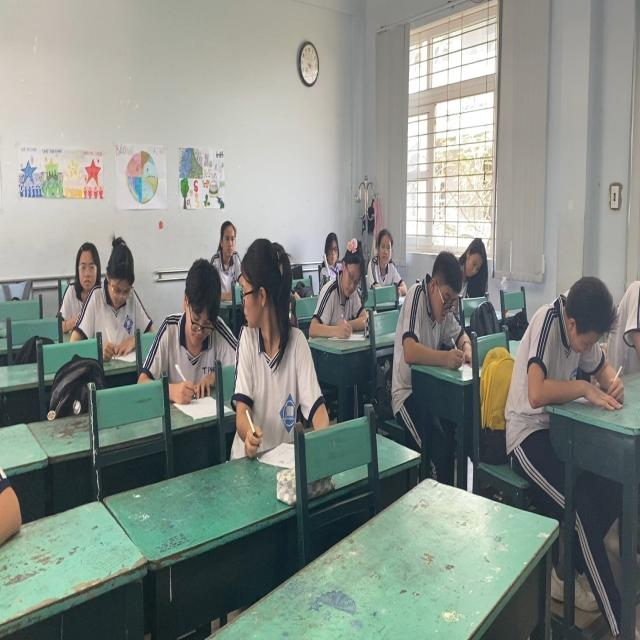cheating: (240, 234, 308, 428)
not_cheating: (530, 272, 626, 403), (96, 227, 162, 366), (159, 276, 229, 372), (410, 255, 470, 352), (330, 241, 369, 341), (458, 231, 495, 303), (70, 227, 106, 299), (211, 213, 242, 276), (373, 224, 398, 290), (316, 227, 340, 272)
